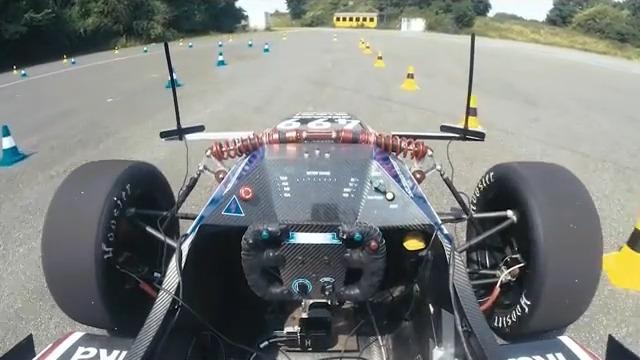blue_cone: (0, 112, 38, 176), (157, 62, 186, 93), (210, 48, 236, 79)
yellow_cone: (601, 194, 640, 294), (450, 91, 496, 133), (402, 60, 431, 100), (369, 49, 387, 74)
